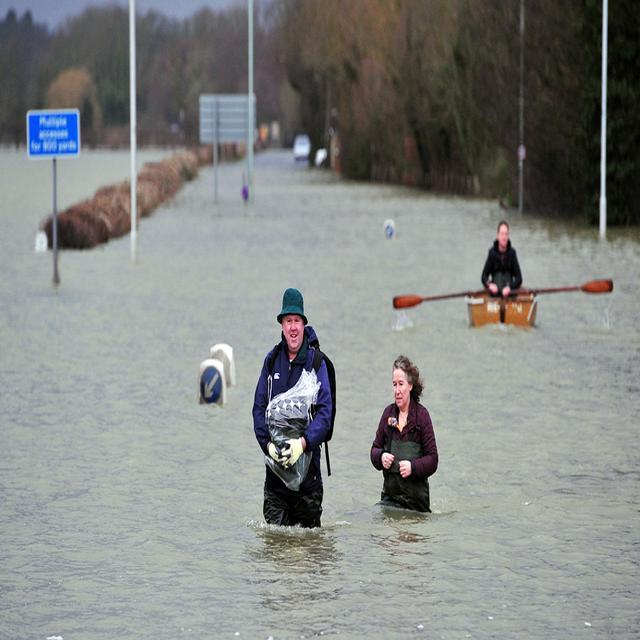Person-RiskLevel3: (239, 289, 337, 528), (368, 347, 447, 517), (476, 217, 530, 307)
